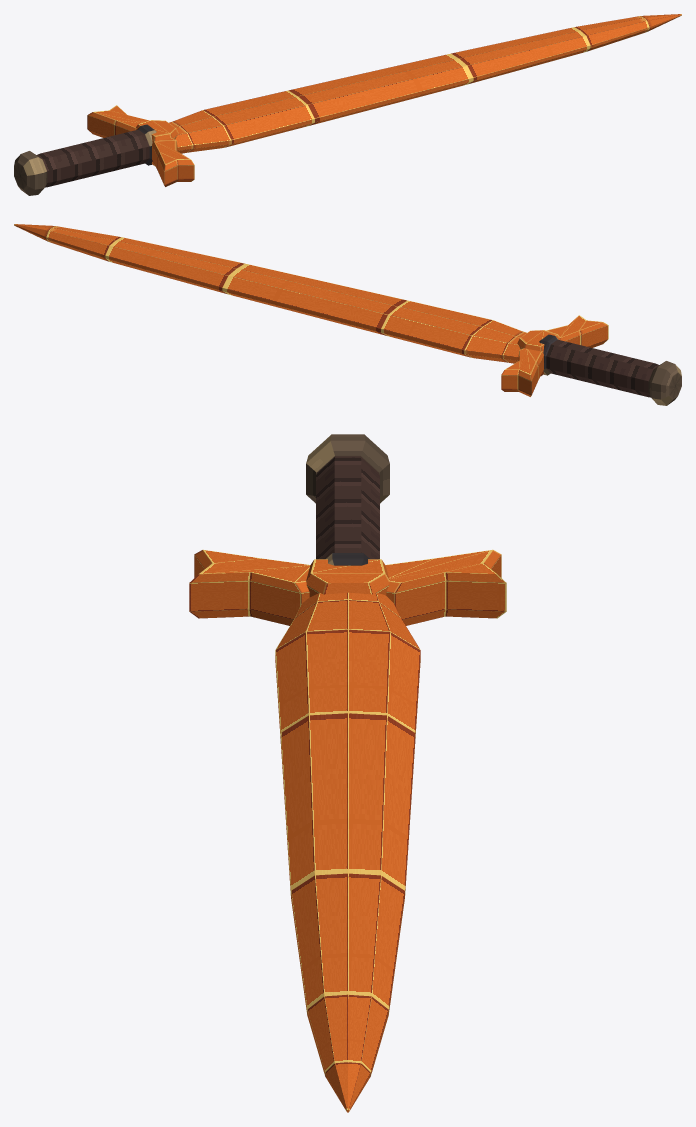
The model's file is bench_guiyan_sword_5_hot.obj.
3 renders of one model, top to bottom at view 1: azimuth 30°, elevation 25°; view 2: azimuth 150°, elevation 25°; view 3: azimuth 270°, elevation 25°, orthographic. The views are drawn at different scales.
Parts seen in each view (by area): view 1: geometry; view 2: geometry; view 3: geometry.
Part boxes in pixels (left/top/right/bottom): geometry: left=14, top=14, right=681, bottom=195; geometry: left=14, top=224, right=681, bottom=405; geometry: left=189, top=434, right=506, bottom=1112.
Bounding box in the file's own units: 0.75 × 0.0411 × 0.1559.
